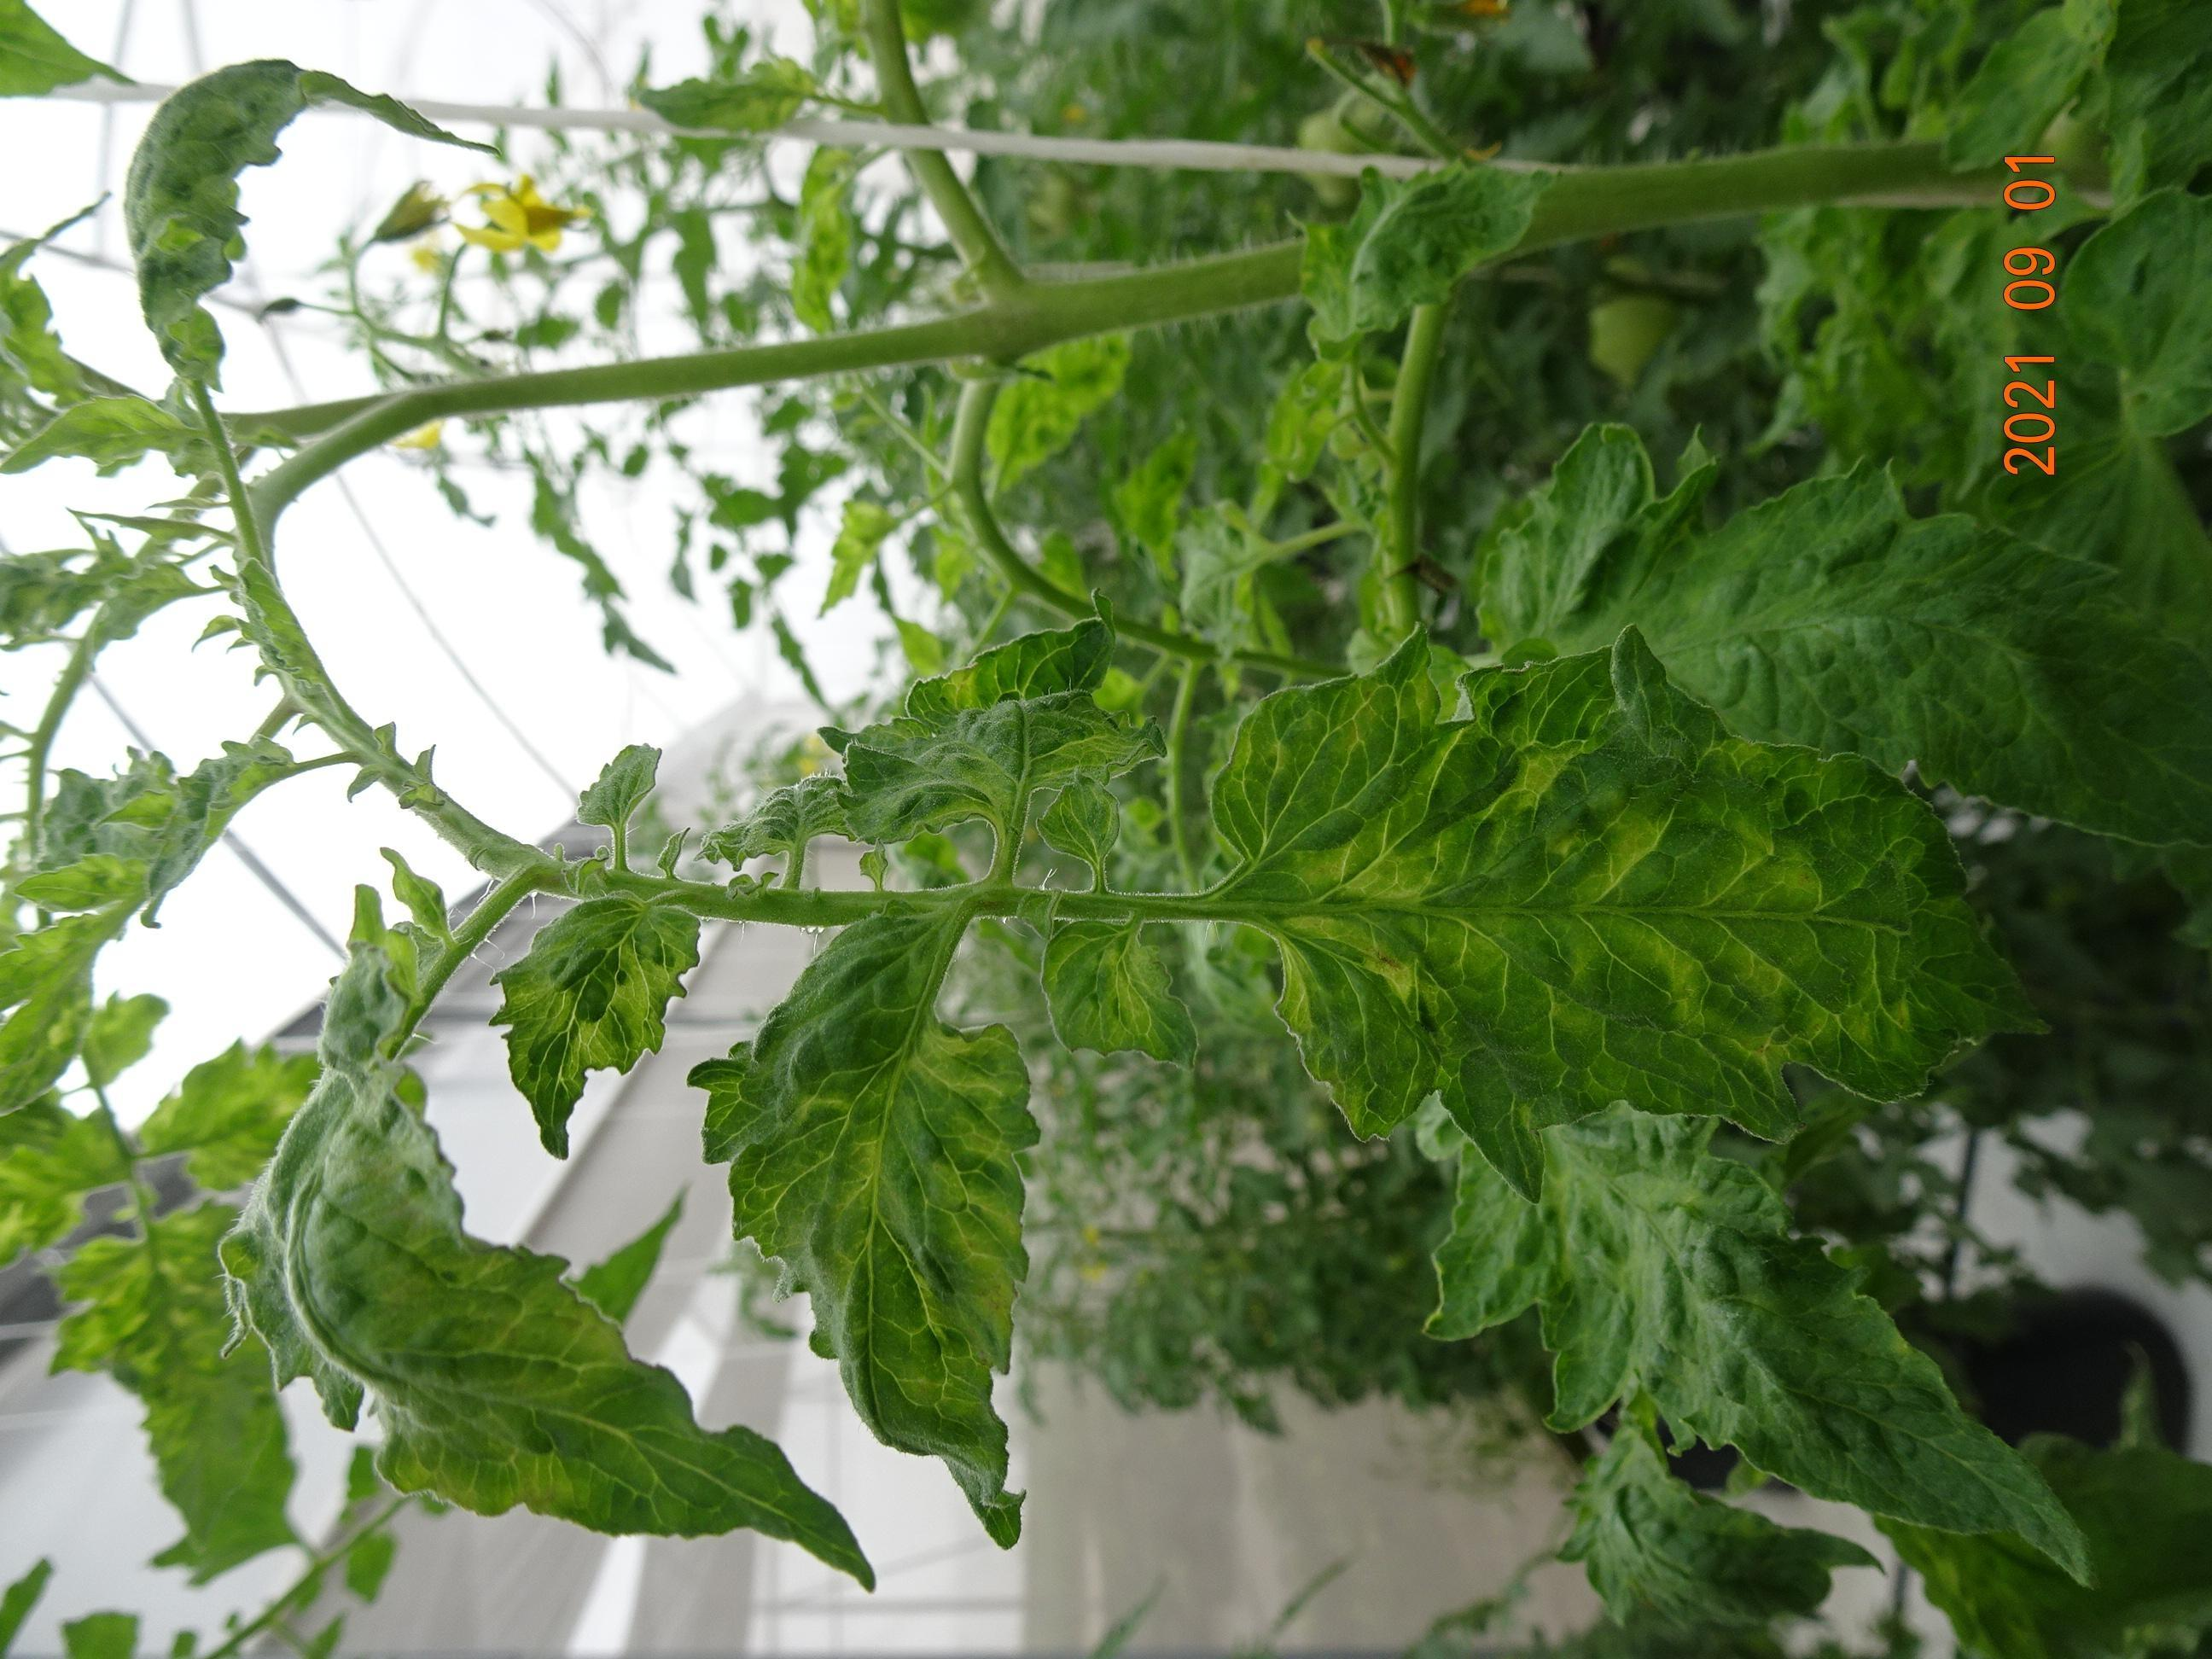Hoja: (1042, 922, 1197, 1068), (1036, 777, 1122, 882)
Hoja rugoso: (1193, 631, 2022, 1197), (221, 899, 873, 1581), (691, 903, 1036, 1542), (493, 899, 700, 1157)
Pedunculo: (366, 748, 1188, 922)
